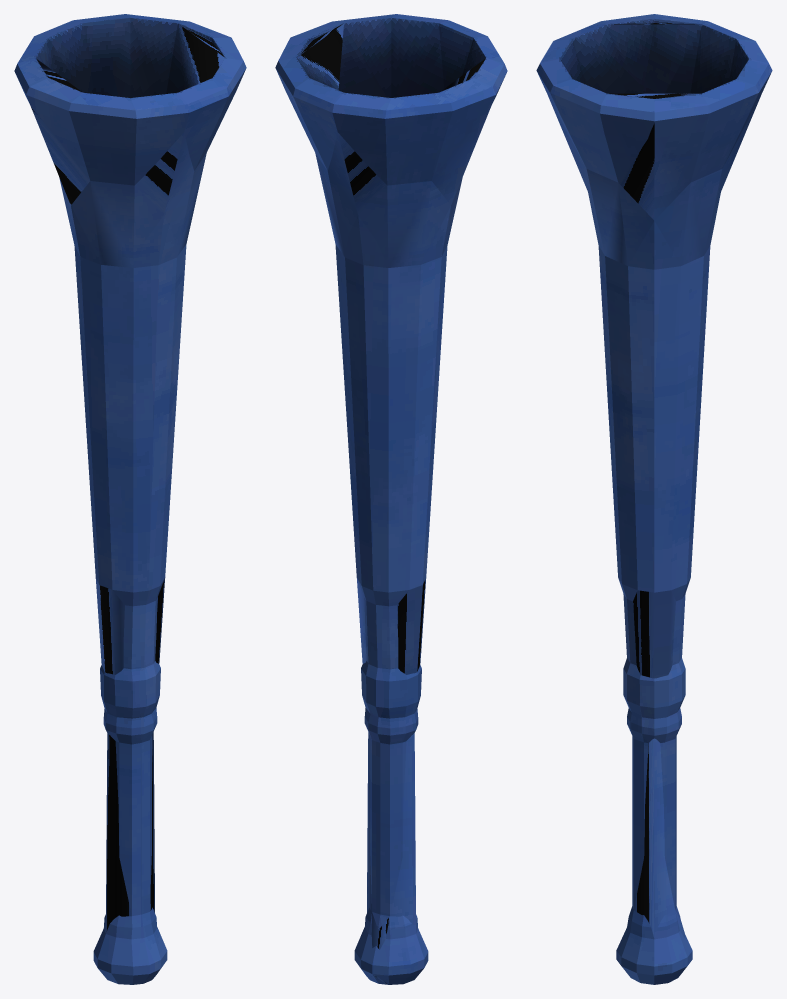
Rendered from item_vuvuzela.glb.
The picture shows the model from 3 angles, left to right: view 1: azimuth 30°, elevation 25°; view 2: azimuth 150°, elevation 25°; view 3: azimuth 270°, elevation 25°; orthographic projection.
Visible parts, largest first — view 1: default; view 2: default; view 3: default.
Part boxes in pixels (left/top/right/bottom): default: left=14, top=14, right=246, bottom=984; default: left=275, top=14, right=507, bottom=984; default: left=536, top=14, right=772, bottom=984.
Size of the model in its own units: 0.2387 by 1 by 0.2342.
Materials: 1 (1 with a texture image).
